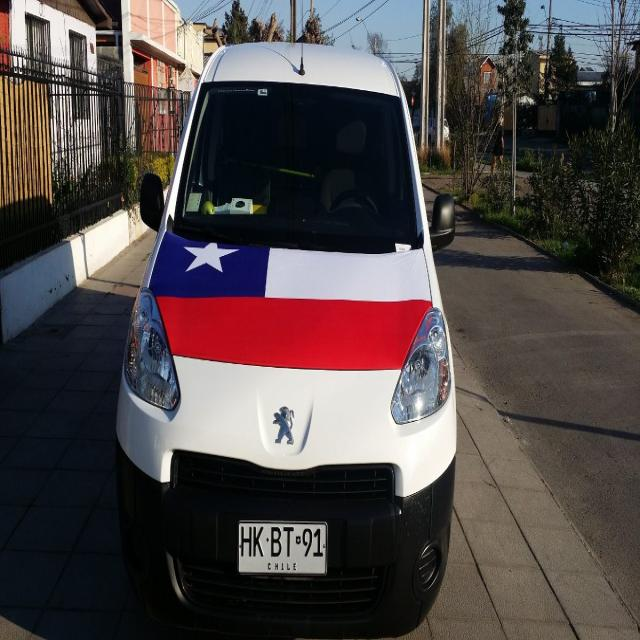patente: (236, 518, 328, 576)
